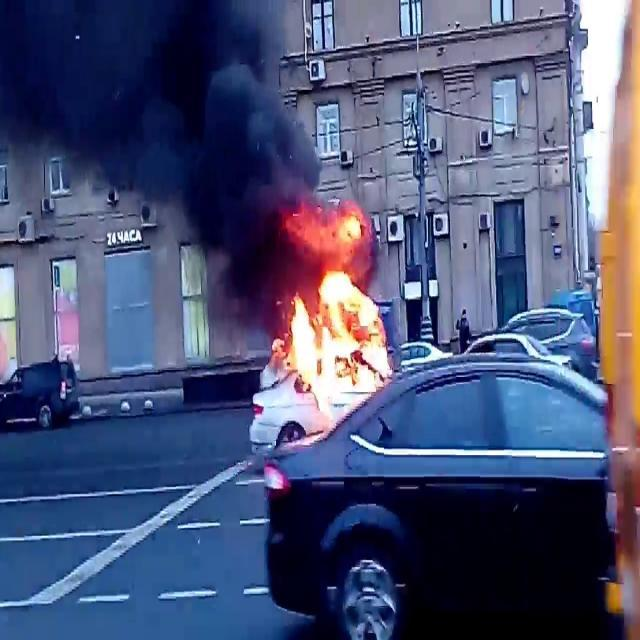Fire: (281, 216, 393, 390)
Smoke: (0, 1, 325, 302)
